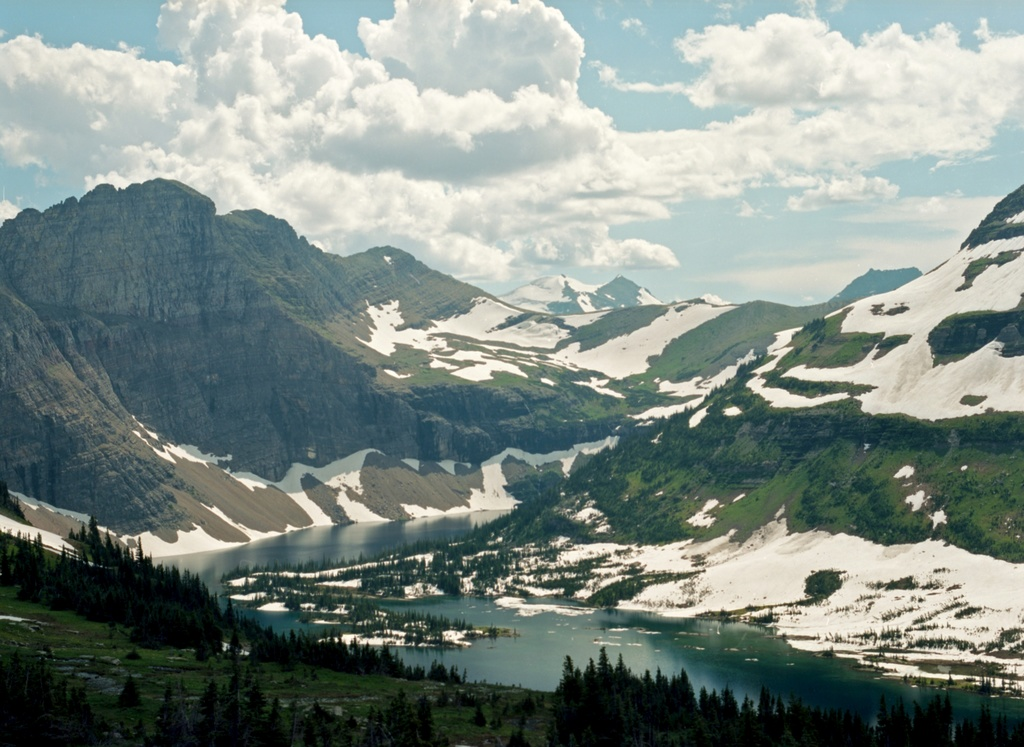Tree: (0, 513, 472, 682), (552, 647, 1023, 745)
